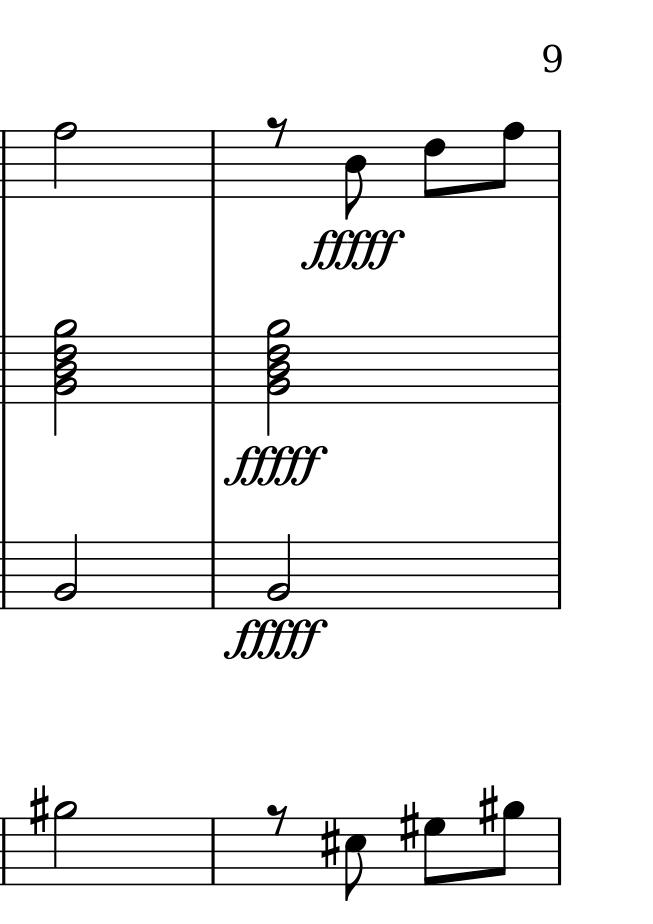2_2: (265, 533, 294, 610), (52, 531, 80, 610)
2_4th: (51, 316, 78, 437), (265, 316, 289, 441)
2_8: (52, 120, 77, 200)
2_9: (51, 799, 77, 888)
8_4: (343, 130, 369, 221)
8_5: (343, 817, 369, 901)
8_6: (422, 128, 447, 200)
8_7: (420, 815, 448, 888)
8_8: (491, 119, 524, 200)
8_9: (492, 800, 525, 888)
9: (542, 43, 564, 73)
Rests8: (266, 804, 290, 837), (267, 115, 290, 149)
Sharp: (27, 784, 49, 840), (397, 801, 420, 854), (319, 817, 341, 870), (477, 784, 498, 837)
Single_barline: (205, 131, 221, 195), (205, 337, 221, 401), (551, 338, 567, 401), (552, 131, 567, 197), (551, 543, 566, 608), (552, 818, 566, 886), (206, 543, 220, 607), (206, 820, 220, 883), (1, 820, 12, 884), (1, 130, 11, 197), (1, 543, 11, 607), (1, 336, 10, 402)
fffff: (299, 225, 406, 273), (223, 618, 331, 659), (222, 443, 324, 486)
